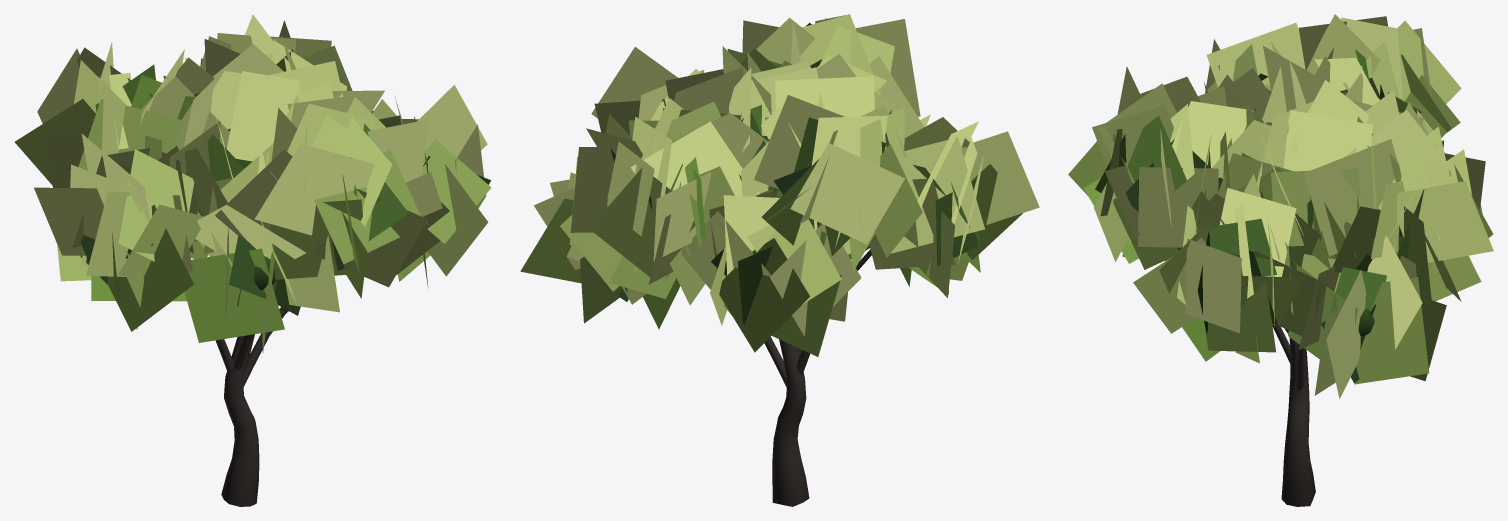
Rendered from Persimmon.fbx.
The picture shows the model from 3 angles, left to right: view 1: azimuth 30°, elevation 25°; view 2: azimuth 150°, elevation 25°; view 3: azimuth 270°, elevation 25°; orthographic projection.
Visible parts, largest first — view 1: Persimmon; view 2: Persimmon; view 3: Persimmon.
Boxes of the visible parts, bbox=[...] form: Persimmon: bbox=[14, 14, 491, 506]; Persimmon: bbox=[520, 14, 1039, 506]; Persimmon: bbox=[1068, 14, 1493, 506].
Size of the model in its own units: 6.34 by 6.23 by 5.52.
